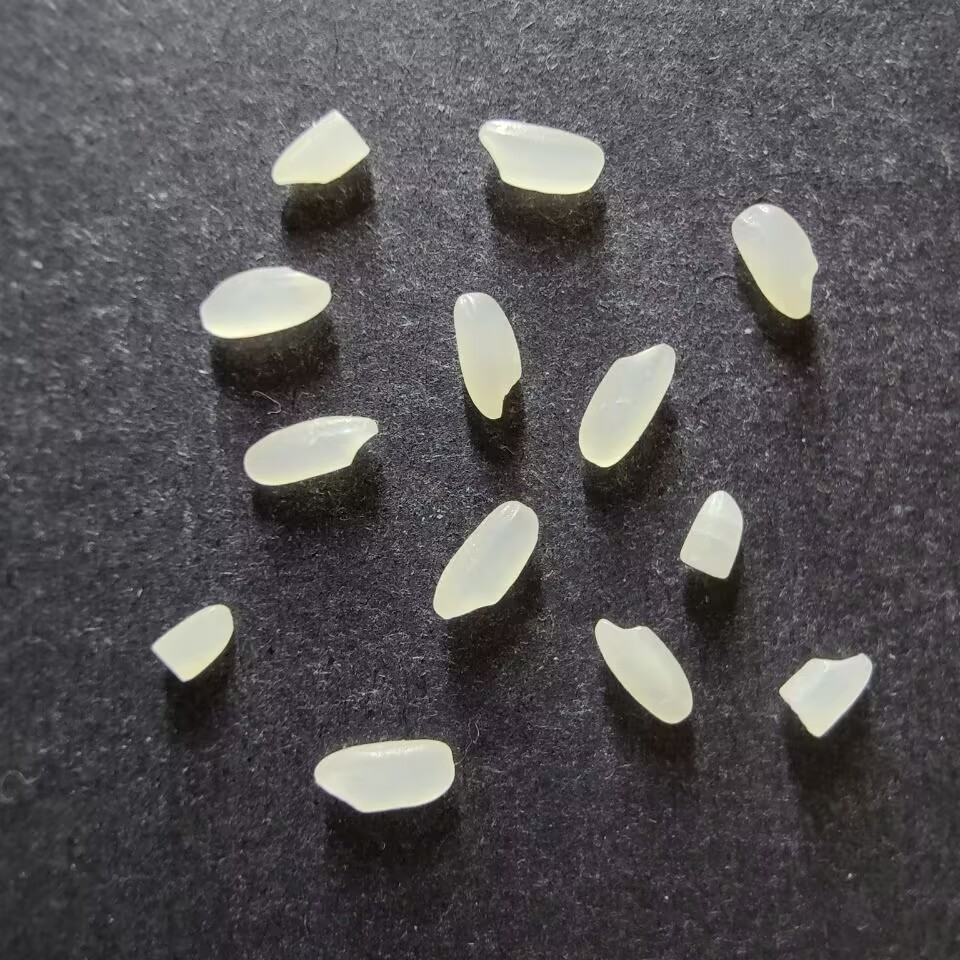broken: (777, 653, 872, 737), (271, 110, 370, 185), (151, 604, 233, 682), (679, 490, 743, 580)
rice: (432, 501, 539, 620), (577, 342, 676, 467), (593, 618, 693, 725), (313, 739, 454, 813), (730, 203, 818, 319), (243, 414, 378, 486), (199, 266, 331, 339), (477, 120, 605, 194), (452, 291, 522, 419)
